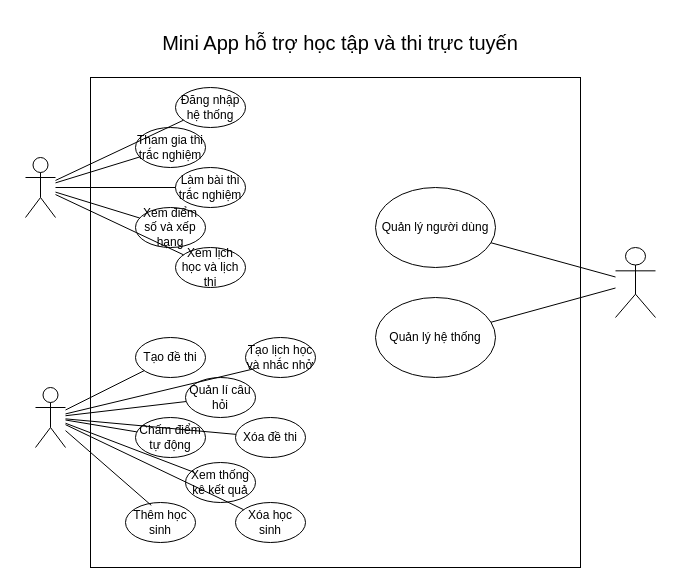
This 673x585 diagram has some shape labels left out. The shapes that lost their labels are listed below. From the top down, each one's centre as x and y in pixels, then its label:
At pixel 40 187: "Học sinh".
At pixel 635 282: "Admin".
At pixel 50 417: "Giáo viên".
